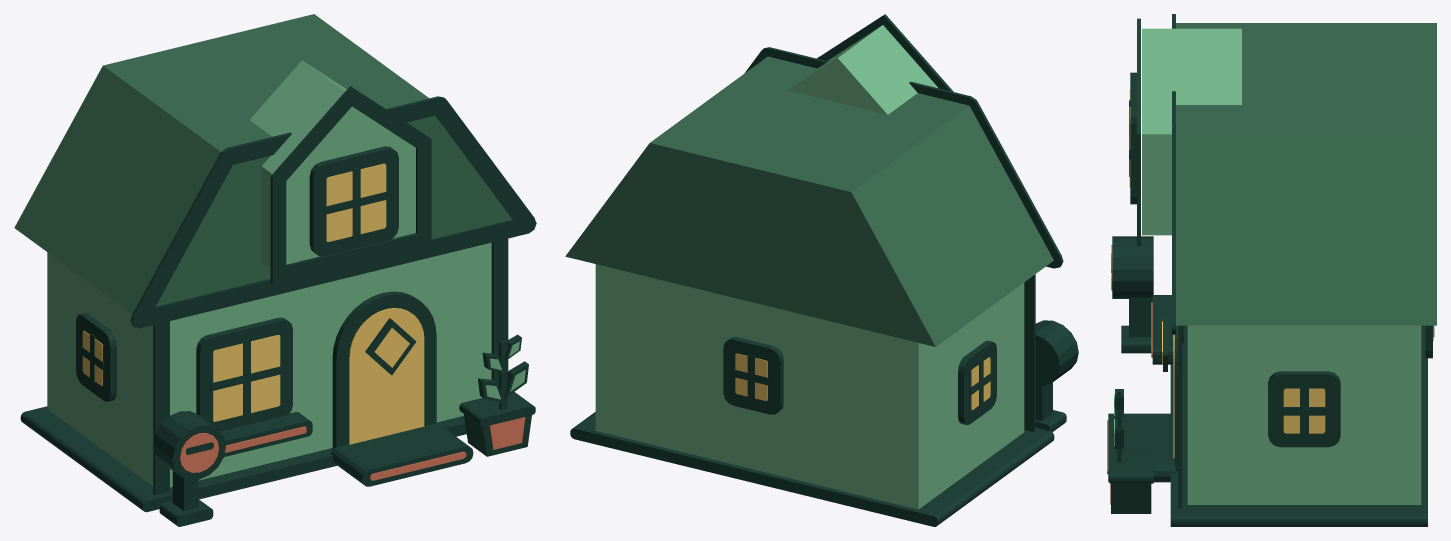
The picture shows the model from 3 angles, left to right: view 1: azimuth 30°, elevation 25°; view 2: azimuth 150°, elevation 25°; view 3: azimuth 270°, elevation 25°; orthographic projection. The views are drawn at different scales.
Parts seen in each view (by area): view 1: Rent Free house; view 2: Rent Free house; view 3: Rent Free house.
Boxes of the visible parts, left/top/right/bottom form: Rent Free house: left=14, top=14, right=536, bottom=526; Rent Free house: left=565, top=14, right=1078, bottom=526; Rent Free house: left=1107, top=14, right=1436, bottom=526.
Size of the model in its own units: 1.08 by 0.9987 by 0.7257.
